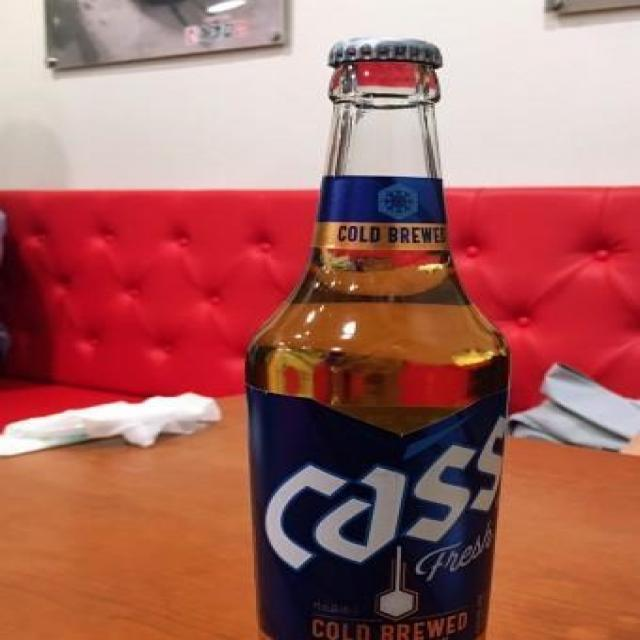beer-bottle: (241, 32, 516, 640)
